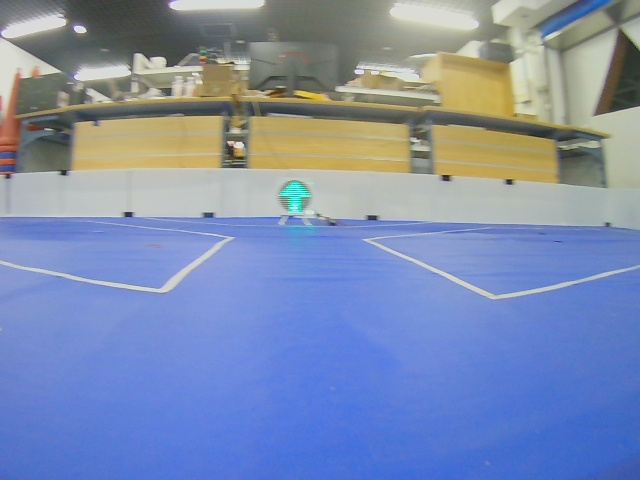straight_green: (278, 180, 312, 214)
